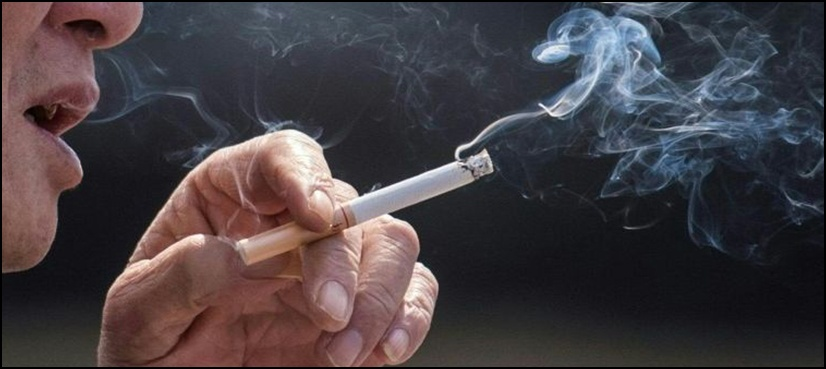sigaretta: (237, 151, 497, 261)
